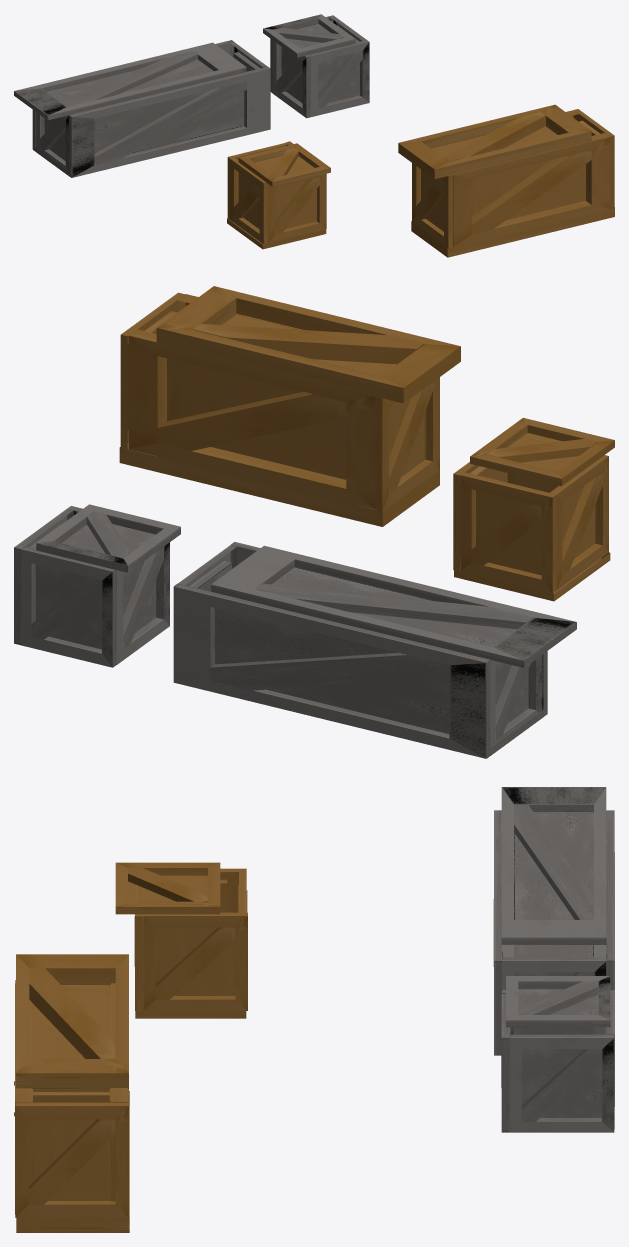
Rendered from Crates 1.fbx.
3 renders of one model, top to bottom at view 1: azimuth 30°, elevation 25°; view 2: azimuth 150°, elevation 25°; view 3: azimuth 270°, elevation 25°, orthographic. The views are drawn at different scales.
Visible parts, largest first — view 1: polySurface25, polySurface12, polySurface29, polySurface23, polySurface18, polySurface9, polySurface15, polySurface8, polySurface22, polySurface21, polySurface17, polySurface16 (+5 smaller); view 2: polySurface24, polySurface4, polySurface29, polySurface23, polySurface7, polySurface6, polySurface15, polySurface21, polySurface22, polySurface8, polySurface16, polySurface17 (+7 smaller); view 3: polySurface29, polySurface23, polySurface13, polySurface19, polySurface10, polySurface22, polySurface21, polySurface16, polySurface28, polySurface25, polySurface24, polySurface26 (+8 smaller).
Boxes of the visible parts, x1=… form: polySurface25: x1=69, y1=66, x2=270, y2=177; polySurface12: x1=453, y1=133, x2=610, y2=247; polySurface29: x1=14, y1=42, x2=246, y2=120; polySurface23: x1=398, y1=104, x2=591, y2=179; polySurface18: x1=309, y1=40, x2=369, y2=116; polySurface9: x1=268, y1=173, x2=326, y2=242; polySurface15: x1=412, y1=163, x2=452, y2=248; polySurface8: x1=230, y1=157, x2=268, y2=244; polySurface22: x1=238, y1=143, x2=330, y2=186; polySurface21: x1=263, y1=14, x2=355, y2=57; polySurface17: x1=272, y1=40, x2=310, y2=118; polySurface16: x1=411, y1=207, x2=614, y2=257; polySurface24: x1=173, y1=583, x2=490, y2=758; polySurface4: x1=128, y1=329, x2=375, y2=509; polySurface29: x1=211, y1=545, x2=576, y2=667; polySurface23: x1=156, y1=286, x2=460, y2=403; polySurface7: x1=460, y1=472, x2=556, y2=593; polySurface6: x1=21, y1=546, x2=116, y2=667; polySurface15: x1=375, y1=377, x2=439, y2=511; polySurface21: x1=36, y1=504, x2=180, y2=572; polySurface22: x1=470, y1=417, x2=614, y2=485; polySurface8: x1=549, y1=455, x2=608, y2=590; polySurface16: x1=119, y1=447, x2=439, y2=526; polySurface17: x1=117, y1=542, x2=169, y2=664; polySurface29: x1=501, y1=787, x2=606, y2=944; polySurface23: x1=16, y1=954, x2=128, y2=1088; polySurface13: x1=15, y1=1102, x2=128, y2=1217; polySurface19: x1=509, y1=1034, x2=614, y2=1132; polySurface10: x1=143, y1=912, x2=247, y2=1010; polySurface22: x1=115, y1=862, x2=220, y2=914; polySurface21: x1=506, y1=976, x2=610, y2=1027; polySurface16: x1=16, y1=1091, x2=129, y2=1232; polySurface28: x1=502, y1=957, x2=606, y2=989; polySurface25: x1=493, y1=810, x2=502, y2=1055; polySurface24: x1=606, y1=810, x2=614, y2=1012; polySurface26: x1=502, y1=945, x2=605, y2=957.
Size of the model in its own units: 2232 by 481 by 1823.
Materials: 2 (2 with a texture image).
